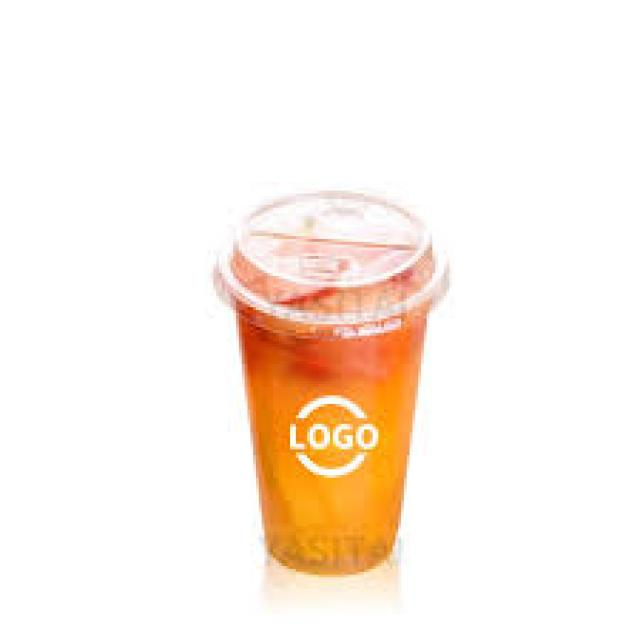bottle: (215, 192, 448, 573)
